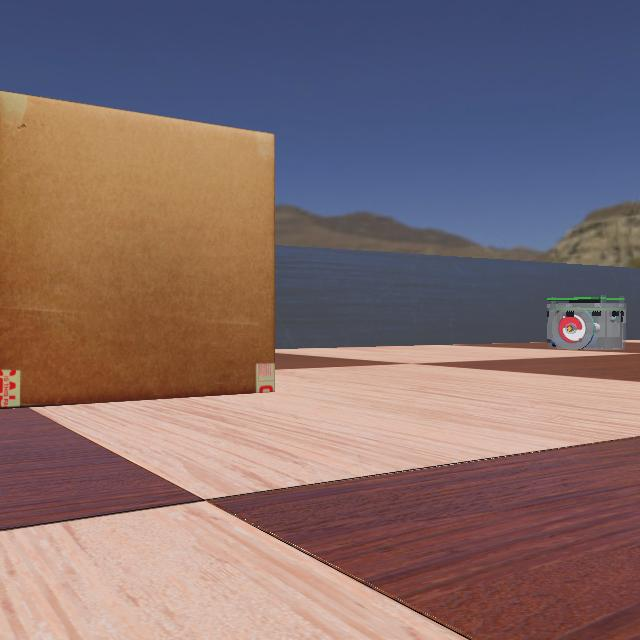cardboard-box: (1, 87, 286, 409)
